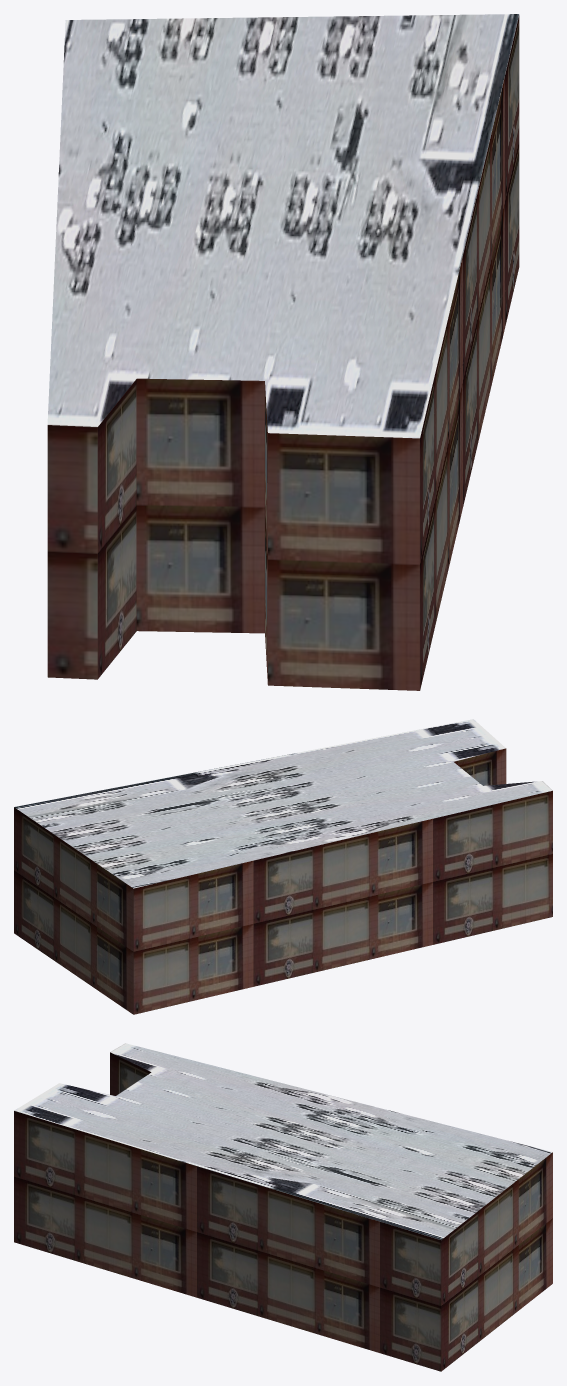
File: ResTex__3333.fbx
3 views of the same model, one above another, from view 1: azimuth 30°, elevation 25°; view 2: azimuth 150°, elevation 25°; view 3: azimuth 270°, elevation 25° (orthographic). The views are drawn at different scales.
Parts seen in each view (by area): view 1: CityEngineMaterial_m, CityEngineMaterial_13_m; view 2: CityEngineMaterial_13_m, CityEngineMaterial_m; view 3: CityEngineMaterial_13_m, CityEngineMaterial_m.
Part boxes in pixels (x1=…): CityEngineMaterial_m: x1=47, y1=14, x2=519, y2=438; CityEngineMaterial_13_m: x1=47, y1=15, x2=519, y2=690; CityEngineMaterial_13_m: x1=14, y1=748, x2=552, y2=1014; CityEngineMaterial_m: x1=14, y1=719, x2=552, y2=888; CityEngineMaterial_13_m: x1=14, y1=1052, x2=552, y2=1371; CityEngineMaterial_m: x1=14, y1=1043, x2=552, y2=1239.
Bounding box in the file's own units: 19.27 × 6 × 22.28.
Materials: 2 (2 with a texture image).
